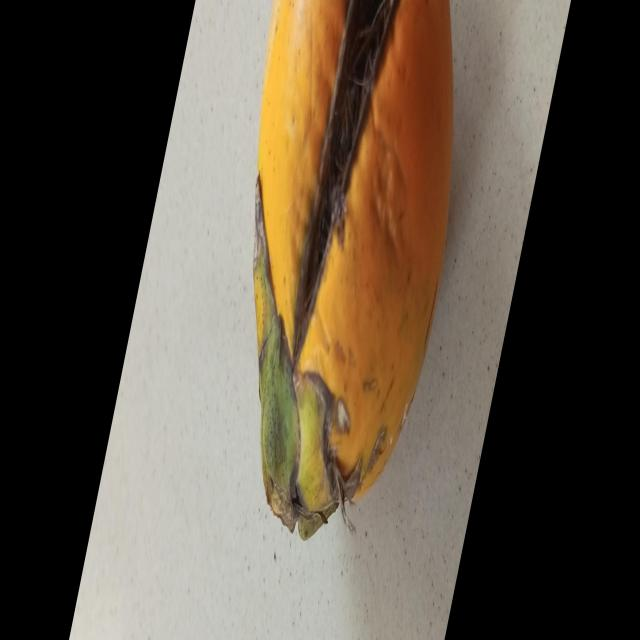damaged: (255, 0, 452, 538)
